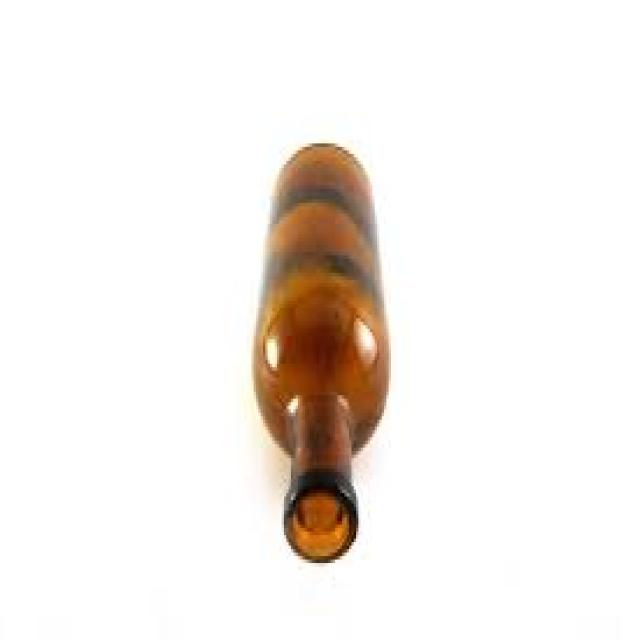glass: (254, 143, 389, 560)
